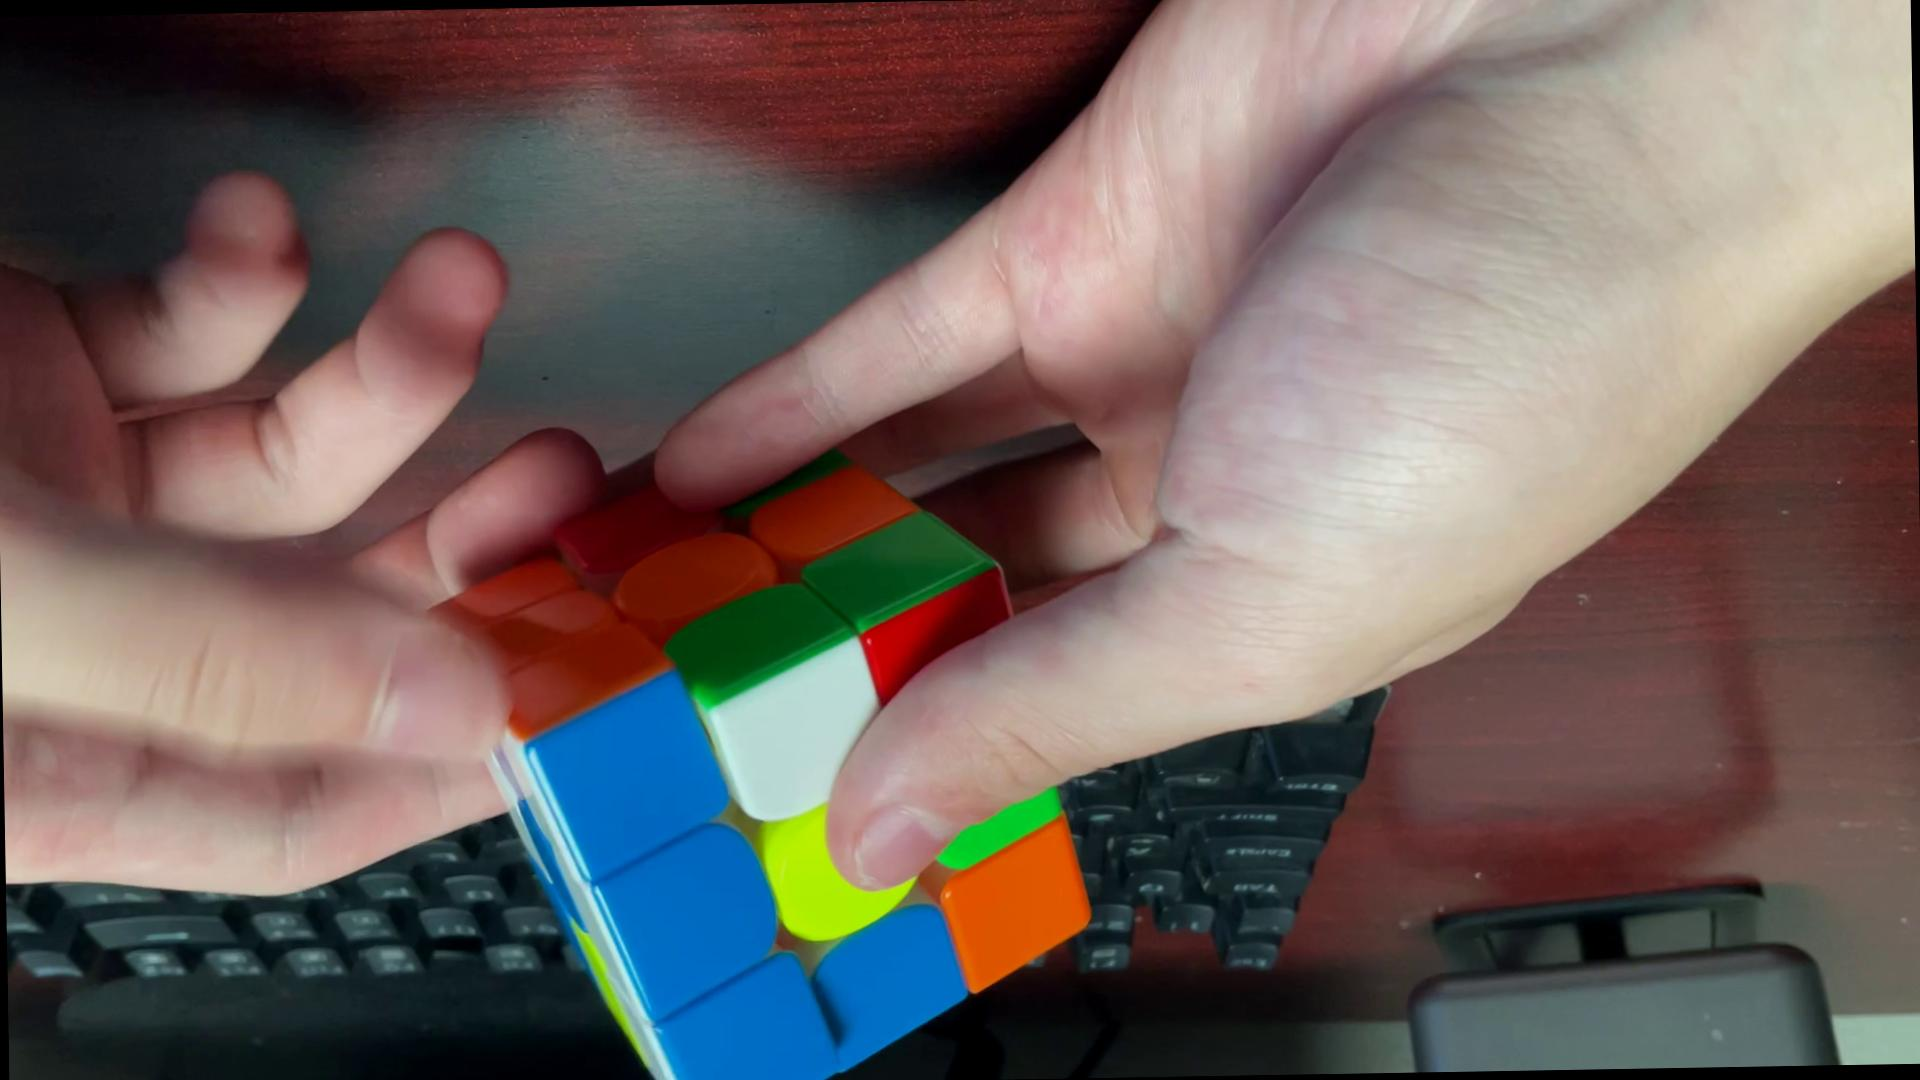Rubiks-Cube: (413, 413, 1101, 1080)
